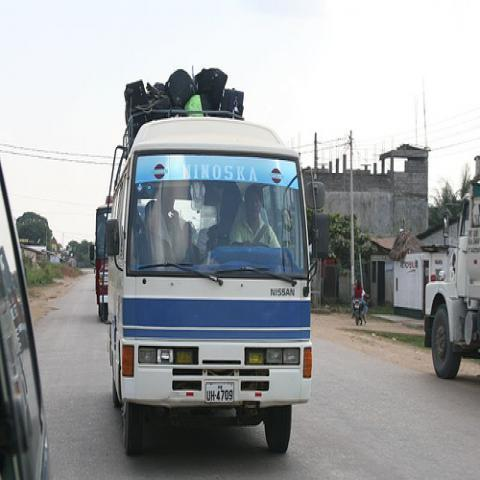bus: (100, 106, 318, 455)
motorcycle: (353, 301, 363, 329)
truck: (423, 179, 479, 378), (95, 195, 113, 324)
